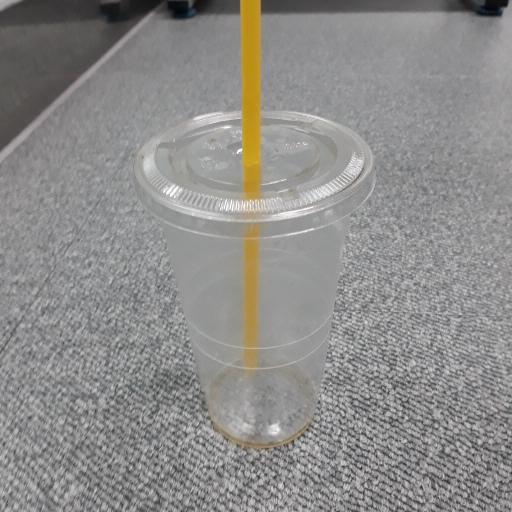Plastic_2: (137, 3, 376, 451)
